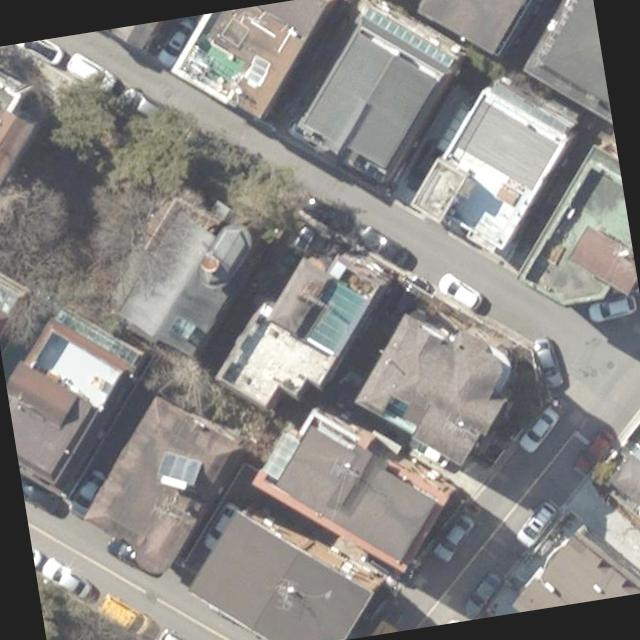solar: (152, 444, 208, 494), (240, 54, 275, 90)
